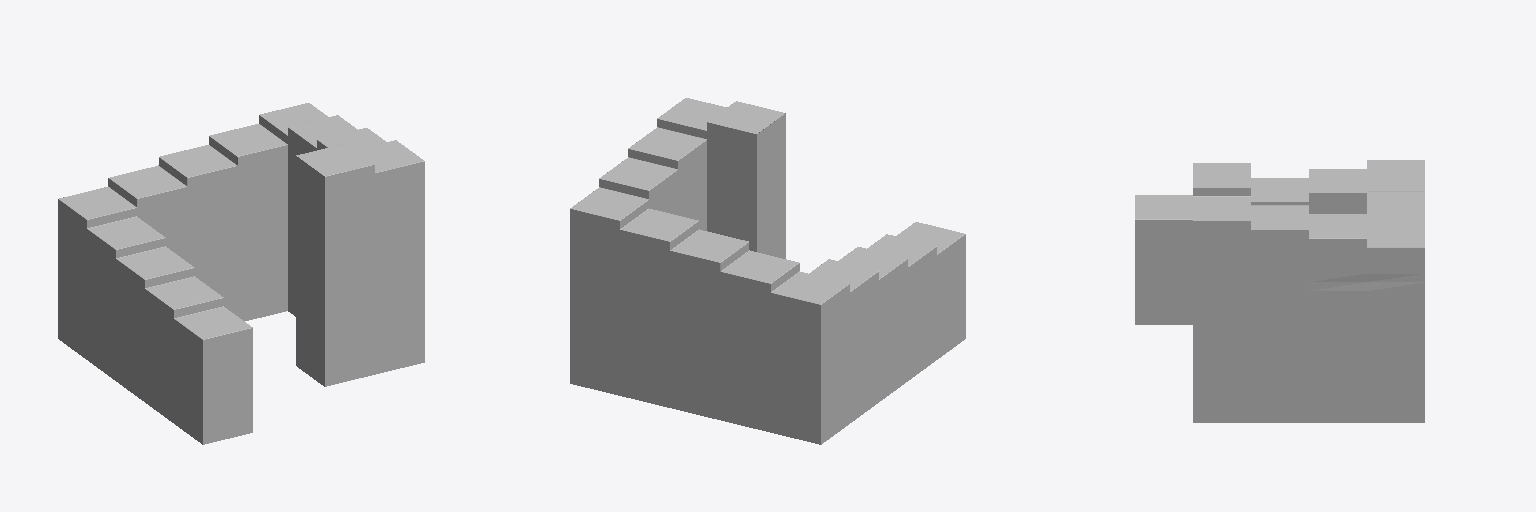
Rendered from ImpossibleStairs.obj.
3 renders of one model, left to right at view 1: azimuth 30°, elevation 25°; view 2: azimuth 150°, elevation 25°; view 3: azimuth 270°, elevation 25°, orthographic.
Visible parts, largest first — view 1: stairs_4_Cube.003; view 2: stairs_4_Cube.003; view 3: stairs_4_Cube.003.
Boxes of the visible parts, <box> form: stairs_4_Cube.003: <box>58,103,424,444</box>; stairs_4_Cube.003: <box>570,98,965,444</box>; stairs_4_Cube.003: <box>1135,160,1424,422</box>.
Size of the model in its own units: 3.75 by 3 by 3.75.